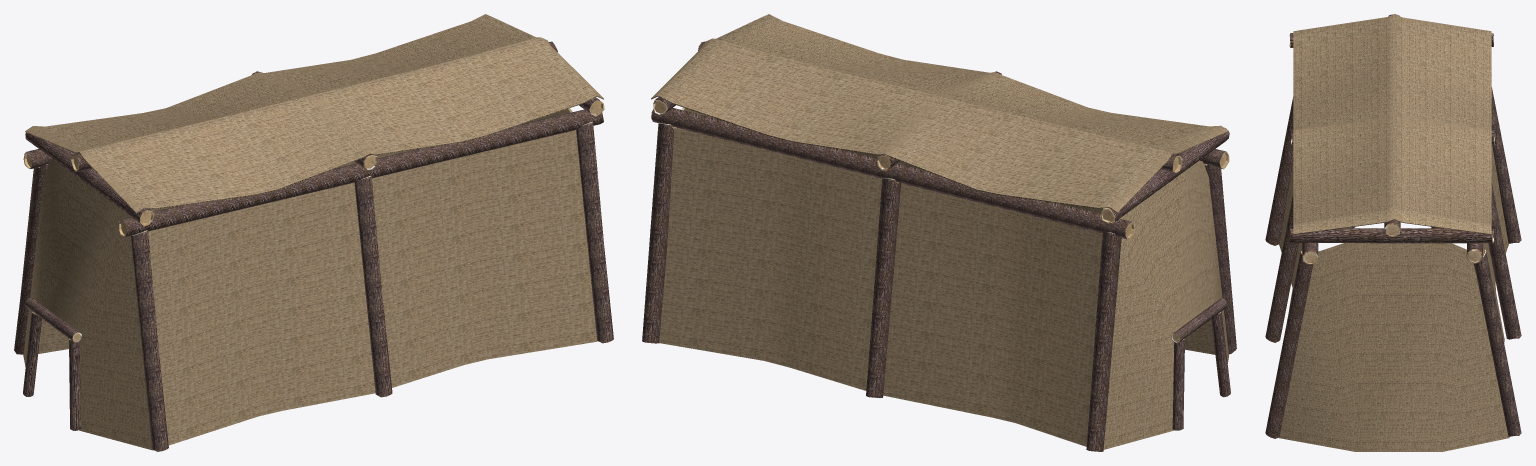
The model's file is town_hall.FBX.
3 renders of one model, left to right at view 1: azimuth 30°, elevation 25°; view 2: azimuth 150°, elevation 25°; view 3: azimuth 270°, elevation 25°, orthographic. The views are drawn at different scales.
Parts seen in each view (by area): view 1: Box001, roof, Cylinder042, Cylinder027, Cylinder028, Cylinder029, Cylinder033, Cylinder037, Cylinder039, Cylinder040, Cylinder041; view 2: Box001, roof, Cylinder031, Cylinder032, Cylinder033, Cylinder030, Cylinder028, Cylinder037, Cylinder040, Cylinder039, Cylinder041; view 3: Box001, roof, Cylinder029, Cylinder035, Cylinder030, Cylinder032, Cylinder027, Cylinder028, Cylinder033, Cylinder042, Cylinder031.
Part boxes in pixels (box(x1,y1,x2,y2)): Box001: box(23, 108, 598, 450); roof: box(25, 14, 603, 213); Cylinder042: box(118, 109, 603, 237); Cylinder027: box(354, 175, 392, 397); Cylinder028: box(130, 230, 168, 451); Cylinder029: box(576, 122, 613, 343); Cylinder033: box(14, 164, 48, 354); Cylinder037: box(25, 132, 154, 226); Cylinder039: box(69, 339, 80, 430); Cylinder040: box(23, 312, 41, 396); Cylinder041: box(25, 298, 81, 342); Box001: box(659, 107, 1228, 449); roof: box(651, 14, 1228, 212); Cylinder031: box(651, 108, 1135, 239); Cylinder032: box(866, 178, 900, 397); Cylinder033: box(1086, 232, 1121, 451); Cylinder030: box(642, 123, 676, 343); Cylinder028: box(1204, 164, 1236, 354); Cylinder037: box(1100, 127, 1229, 222); Cylinder040: box(1172, 338, 1184, 430); Cylinder039: box(1211, 311, 1230, 397); Cylinder041: box(1171, 298, 1227, 343); Box001: box(1278, 145, 1509, 451); roof: box(1293, 14, 1491, 234); Cylinder029: box(1265, 251, 1313, 438); Cylinder035: box(1289, 228, 1493, 243); Cylinder030: box(1473, 249, 1521, 436); Cylinder032: box(1488, 182, 1521, 339); Cylinder027: box(1265, 194, 1298, 342); Cylinder028: box(1265, 97, 1293, 245); Cylinder033: box(1491, 87, 1521, 243); Cylinder042: box(1302, 243, 1318, 264); Cylinder031: box(1466, 243, 1482, 263).
Bounding box in the file's own units: 51.36 × 24.04 × 24.45.
3 materials, 3 textured.
